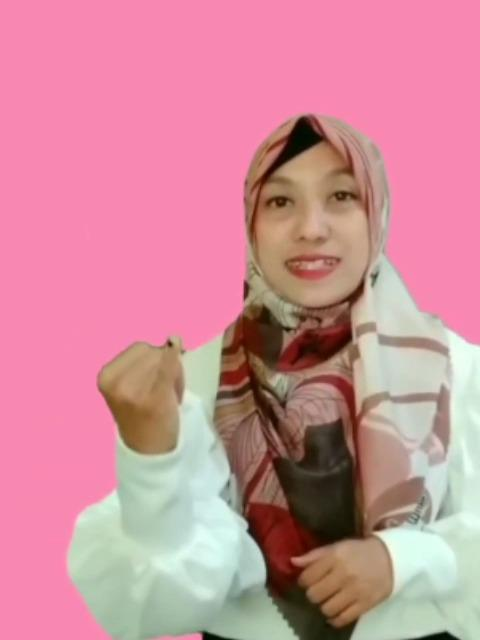J: (92, 330, 198, 440)
